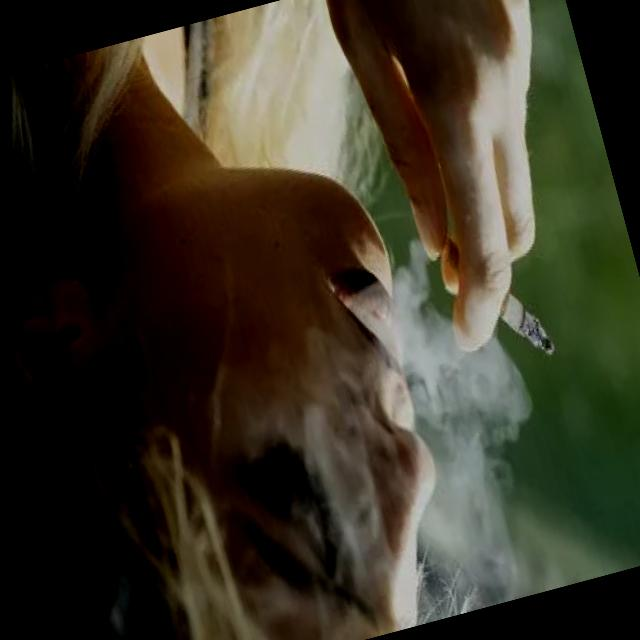smoke: (434, 210, 562, 384)
